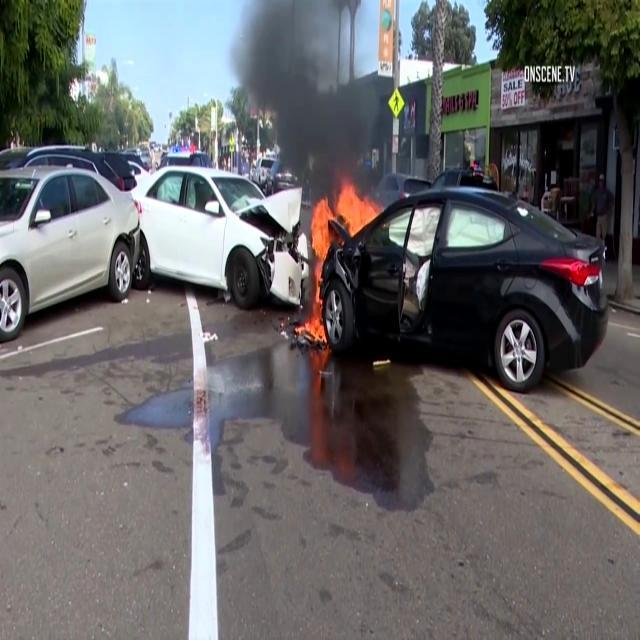Fire: (299, 202, 334, 336), (337, 183, 374, 239)
Smoke: (235, 4, 381, 206)
